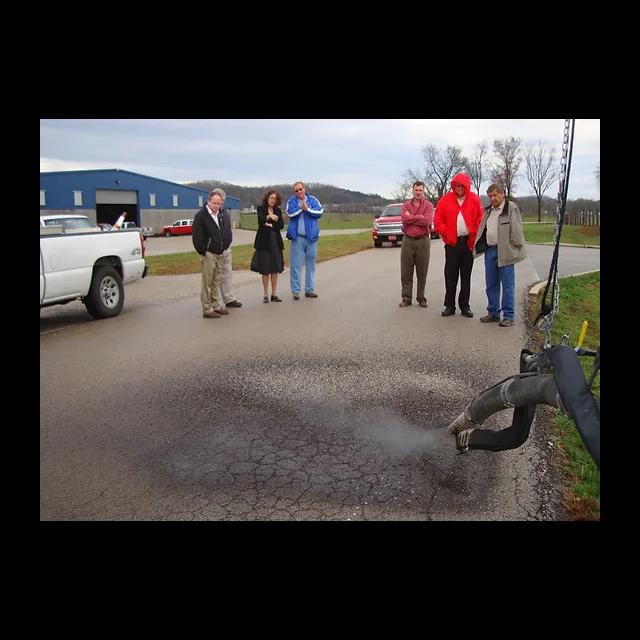retak_kulit_buaya: (206, 415, 373, 521)
